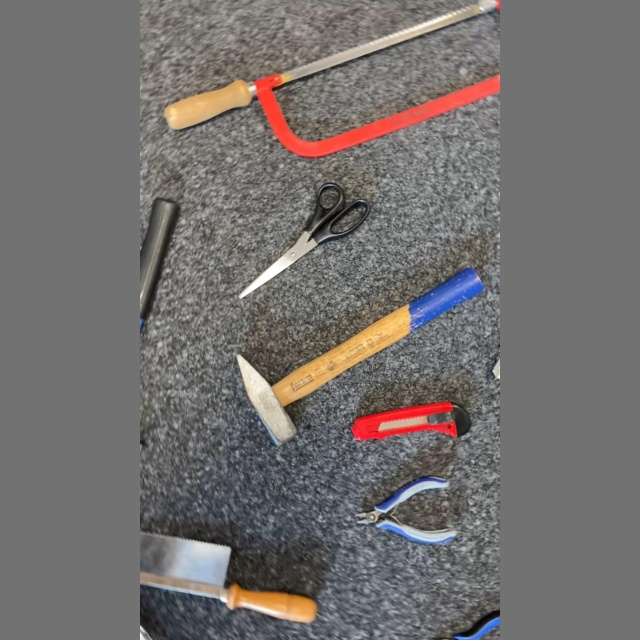scissor: (233, 178, 381, 305)
